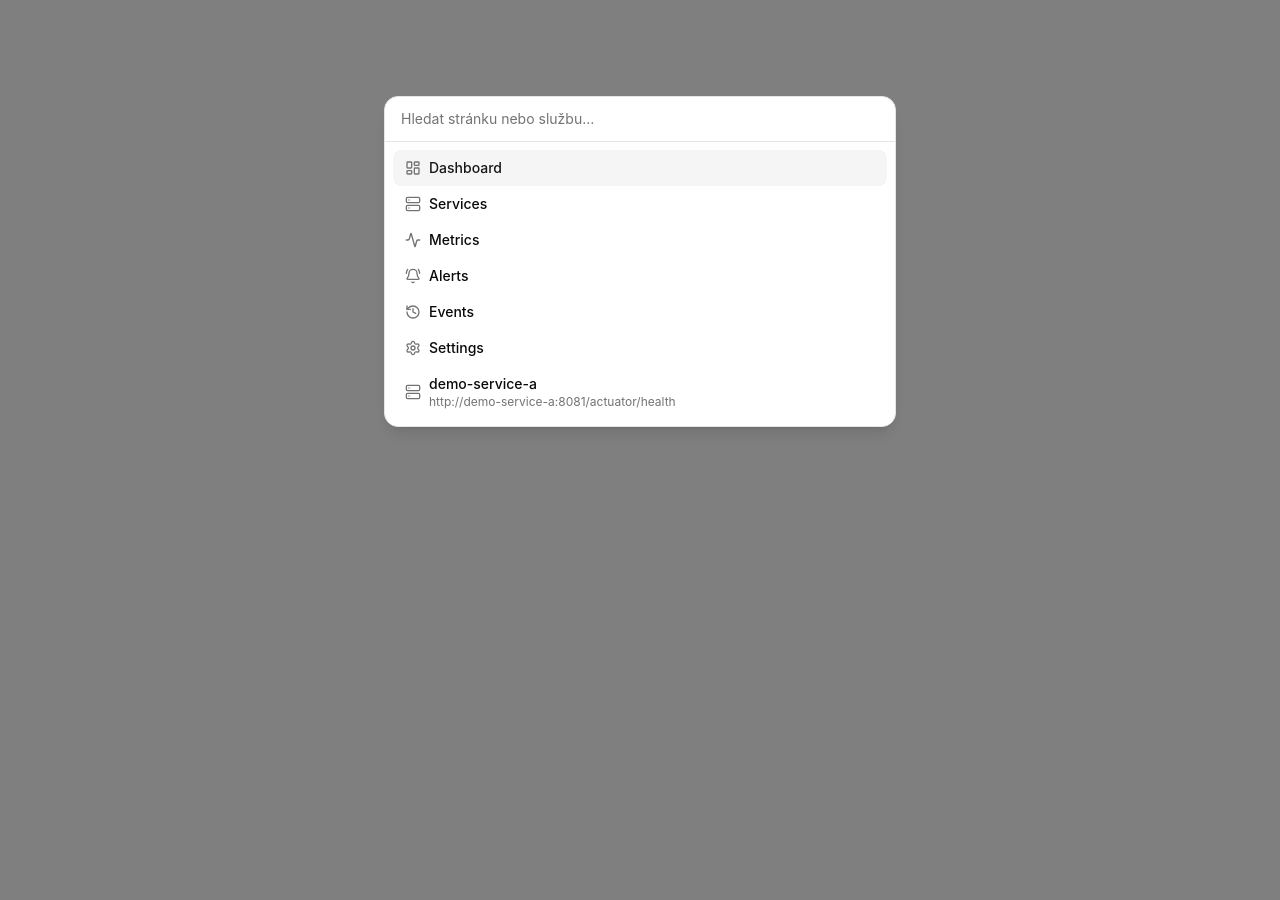
Test: CommandPalette › filtruje položky podle zadaného textu, včetně tagů služby
Type "production" into the field with placeholder "Hledat stránku nebo službu…" at point(640, 120), box [385,97,895,142]
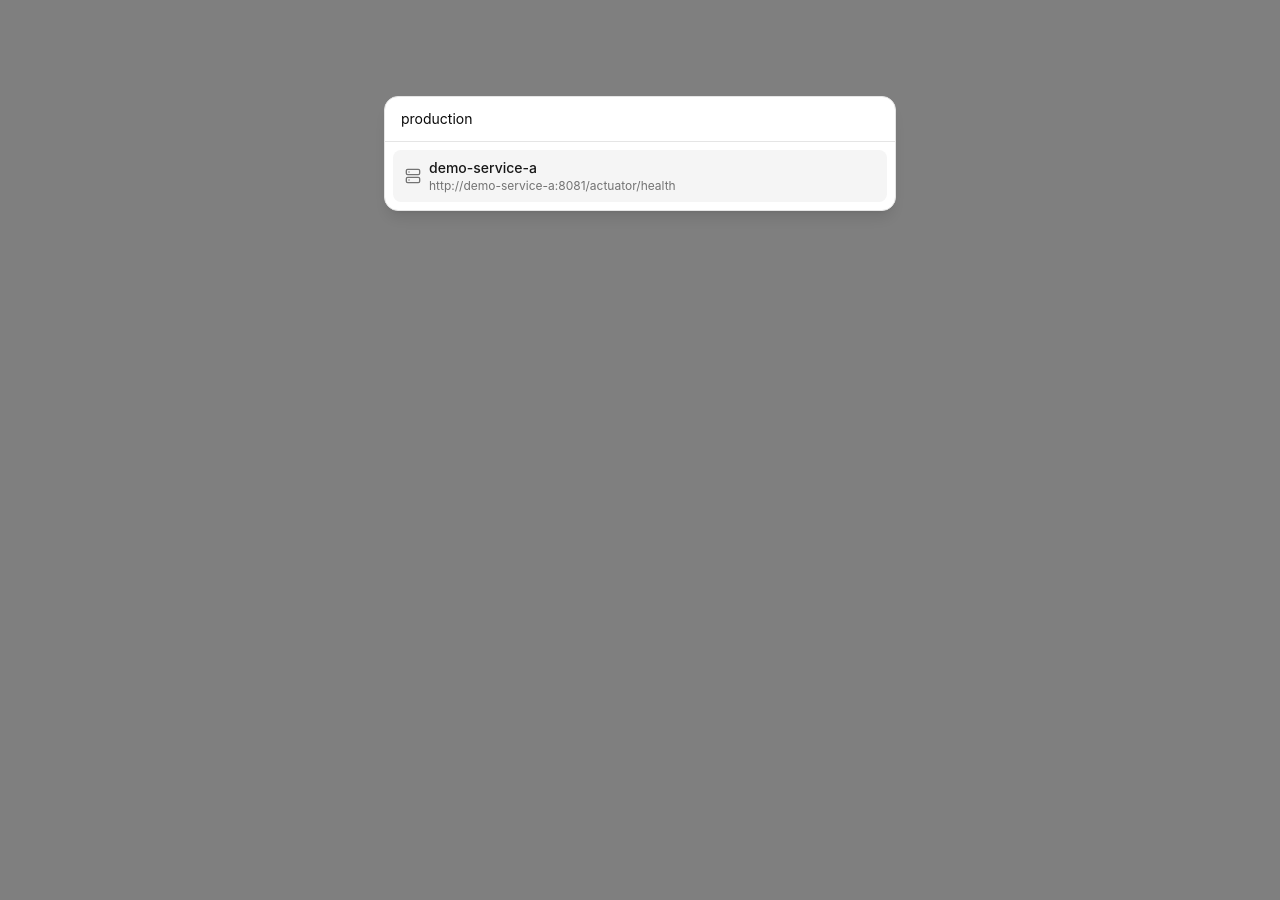
Expected: the text "demo-service-a" is shown, [429,159,537,176]
Now the button "Dashboard" is gone
